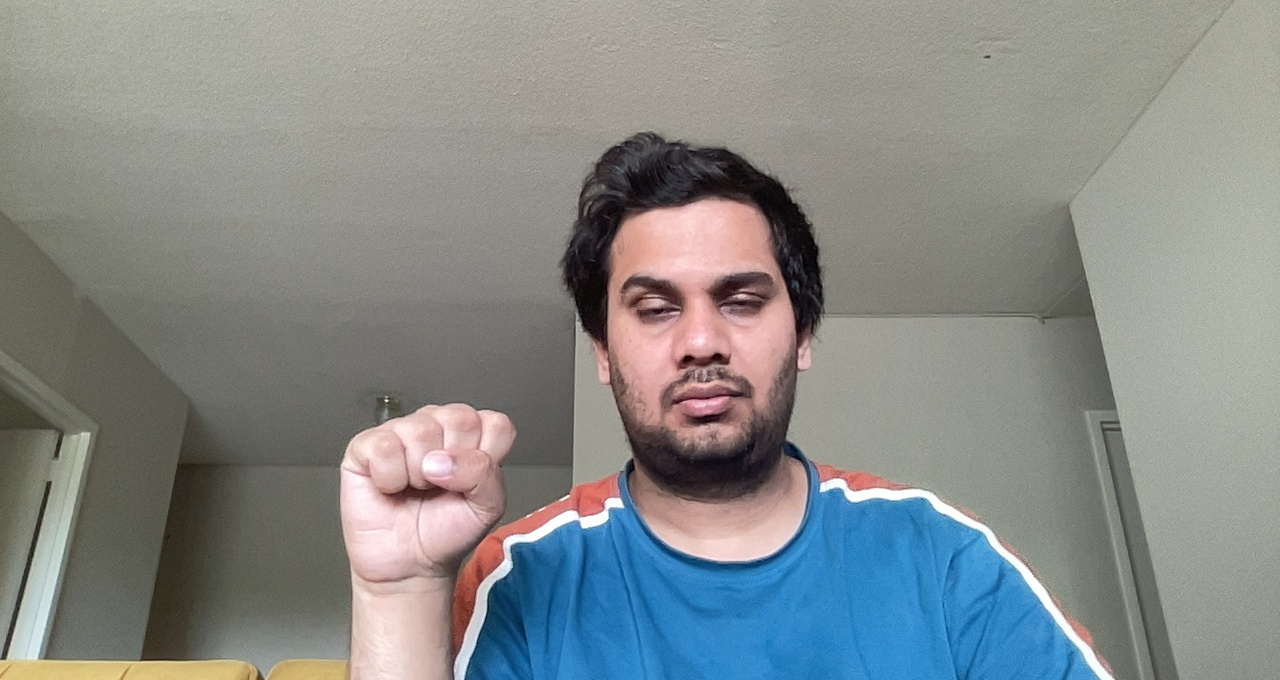closedfist: (328, 398, 514, 592)
